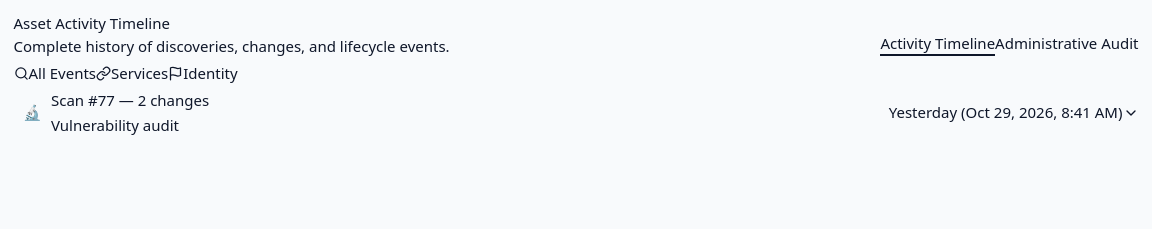
Scenario: AuditTimeline — activity view › shows the filtered-empty state with a Clear Filters action
Click the button "Identity" at (203, 73), box x1=168 y1=57 x2=238 y2=89
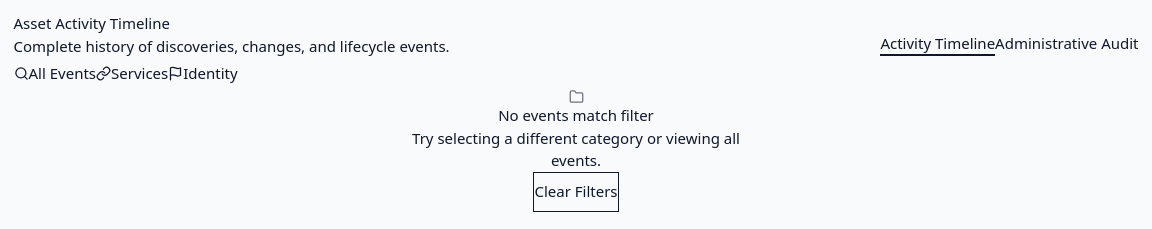
Check: the text "No events match filter" is shown, box x1=498 y1=104 x2=654 y2=127
Click the button "Clear Filters" at (576, 192), box x1=533 y1=172 x2=618 y2=212
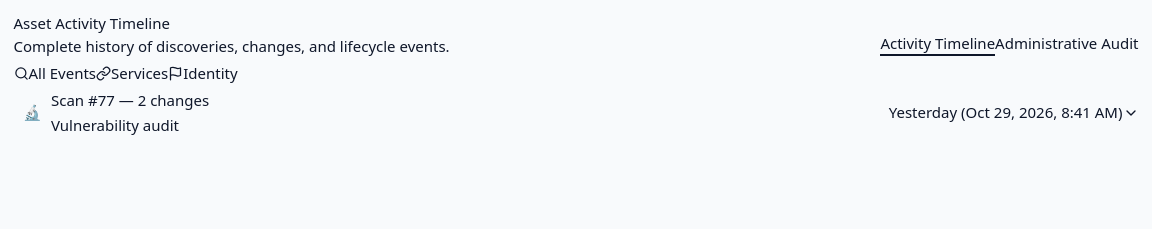
Check: the button "Scan #77" is shown, box x1=14 y1=89 x2=1138 y2=136
